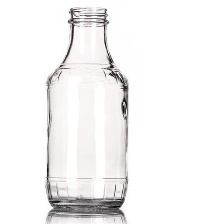bottle: (37, 3, 140, 210)
